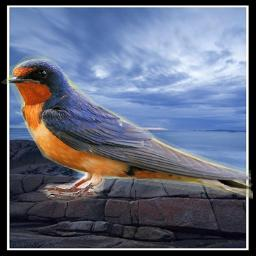Swallow: (1, 54, 253, 207)
